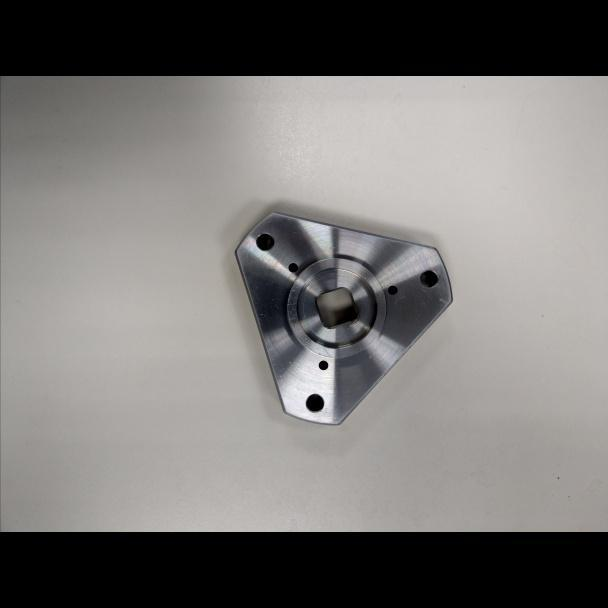hole: (416, 266, 440, 292), (303, 391, 326, 416), (253, 231, 276, 254), (383, 281, 400, 298), (316, 359, 330, 372), (287, 261, 300, 275)
